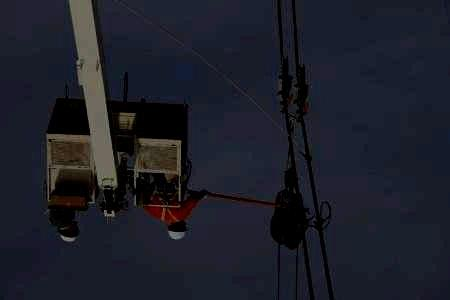helmet: (58, 221, 79, 242), (168, 220, 187, 240)
